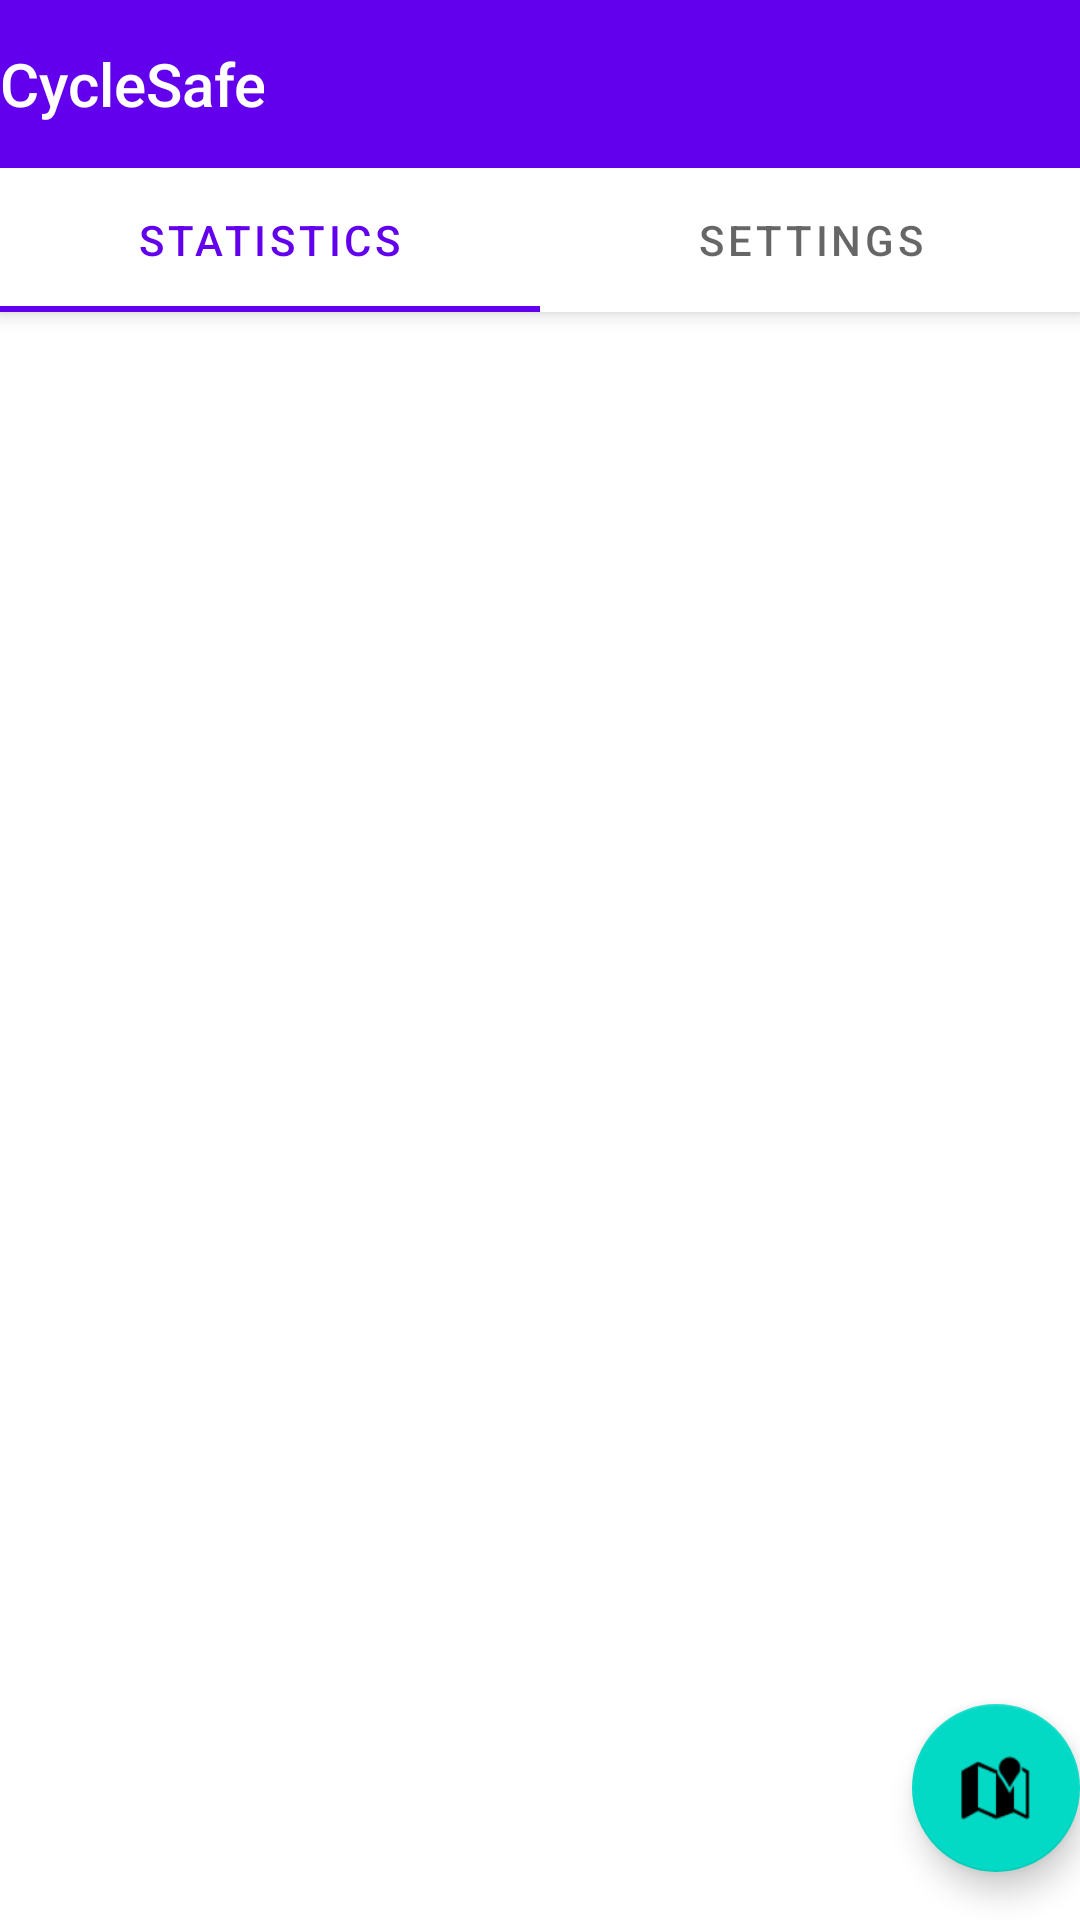

Where to tap for icons on this 1080 × 1920 app screen, as (x=x, y=y):
map: (x=996, y=1788)
